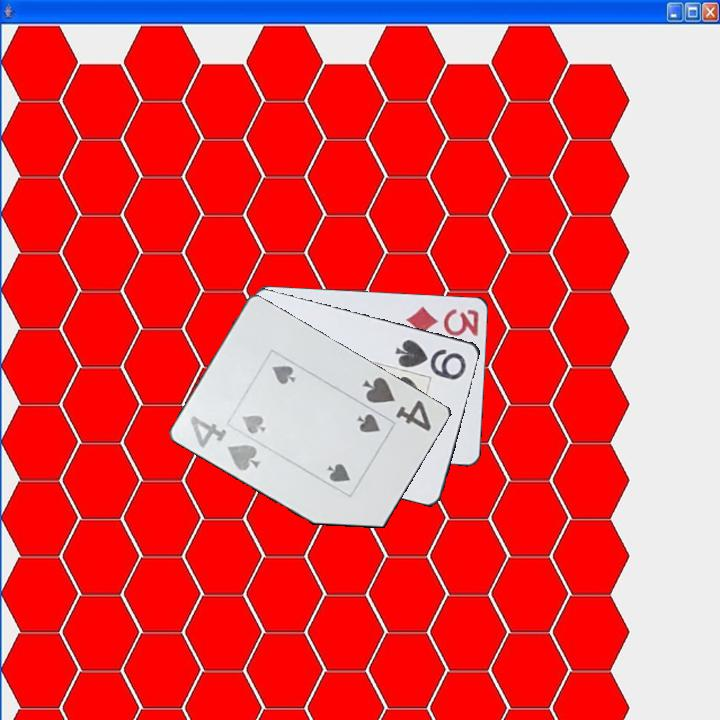3d: (403, 302, 482, 338)
4s: (186, 412, 263, 474), (360, 372, 435, 434)
9s: (392, 335, 469, 382)
